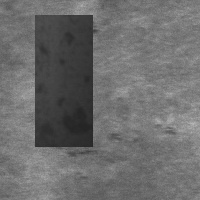pitted_surface: (35, 15, 93, 147)
rolled-in_scale: (52, 105, 172, 161), (70, 16, 114, 36)
